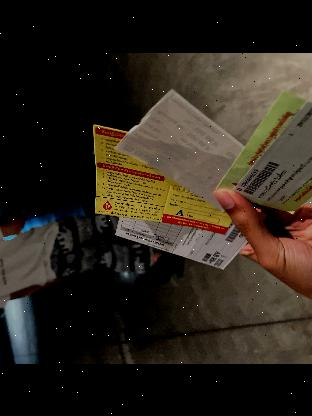Others: (112, 73, 246, 213), (79, 123, 237, 229), (214, 92, 312, 220), (113, 192, 252, 272)
